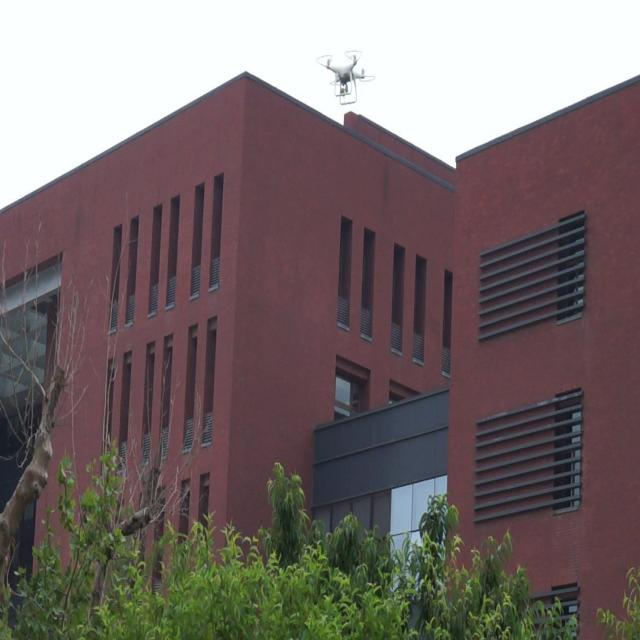UAV: (316, 50, 375, 104)
